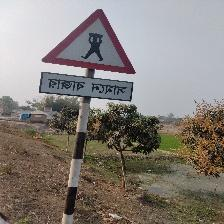Market-in-front: (39, 8, 137, 103)
